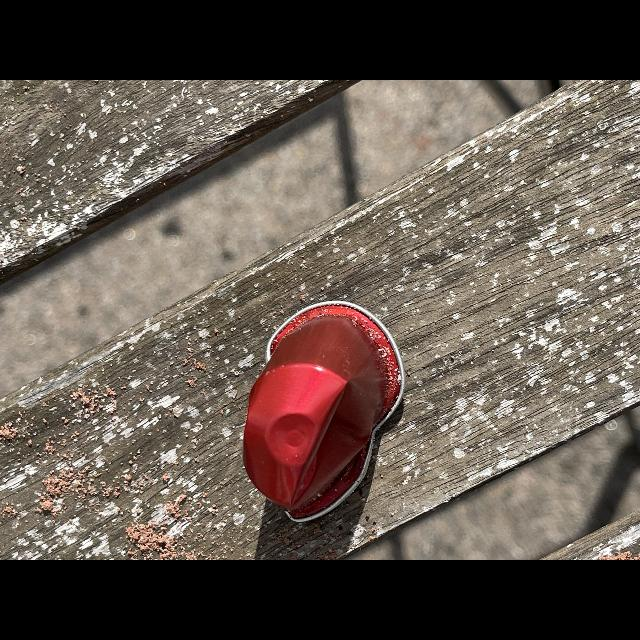damaged_capsule: (234, 294, 412, 536)
